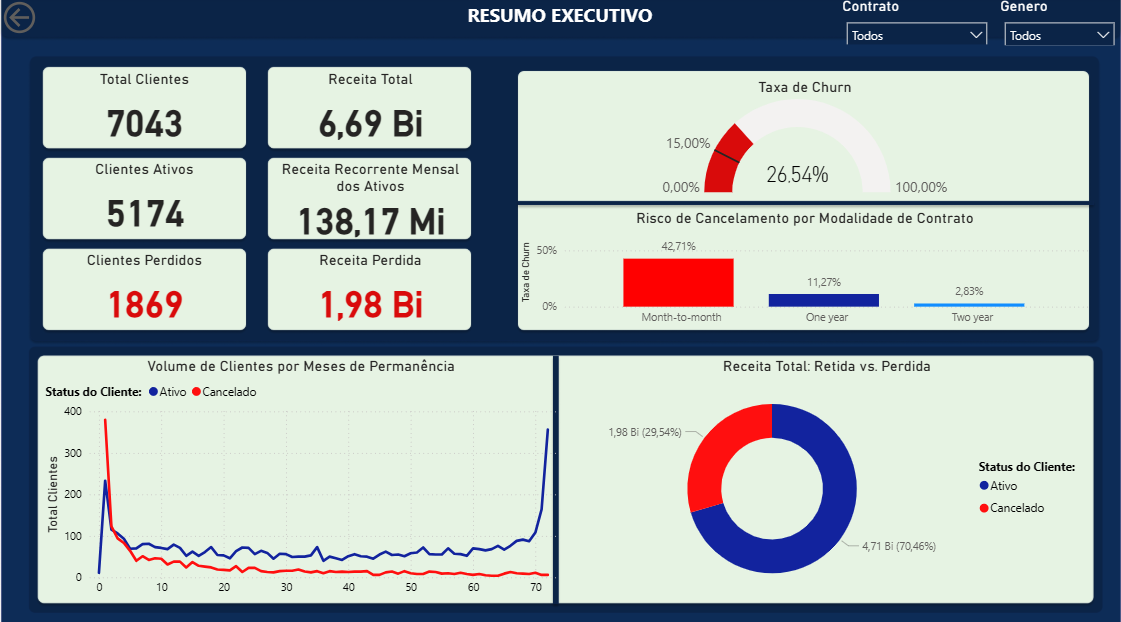

The dashboard page shown, as its layout file describes it:
{"tool":"powerbi","page":{"name":"Resumo Executivo","canvas":[1280,720],"ordinal":1},"visuals":[{"type":"card","title":"Total Clientes","fields":{"Values":["_Medidas.Total Clientes"]},"box":[47.8,83.2,235.8,93.4],"z":0},{"type":"card","title":"Clientes Ativos","fields":{"Values":["_Medidas.Clientes Ativos"]},"box":[47.8,185.7,235.8,93.4],"z":1000},{"type":"card","title":"Clientes Perdidos","fields":{"Values":["_Medidas.Clientes Perdidos"]},"box":[47.8,289.4,235.8,93.4],"z":2000},{"type":"card","title":"Receita Total","fields":{"Values":["_Medidas.Receita Total"]},"box":[305.3,83.2,235.8,93.4],"z":3000},{"type":"card","title":"Receita Recorrente Mensal dos Ativos","fields":{"Values":["_Medidas.MRR"]},"box":[305.3,185.7,235.8,93.4],"z":4000},{"type":"card","title":"Receita Perdida","fields":{"Values":["_Medidas.Receita Perdida"]},"box":[305.3,289.4,235.8,93.4],"z":5000},{"type":"gauge","fields":{"Y":["_Medidas.Taxa de Churn"]},"box":[590.1,92.3,656.2,140.1],"z":6000},{"type":"donutChart","title":"Receita Total: Retida vs. Perdida","fields":{"Y":["_Medidas.Receita Total"],"Category":["public tabela_fato_churn.Status do Cliente"]},"box":[640,410,606,281],"z":7000},{"type":"areaChart","title":"Volume de Clientes por Meses de Permanência","fields":{"Category":["public tabela_fato_churn.mesespermanencia"],"Y":["_Medidas.Total Clientes"],"Series":["public tabela_fato_churn.Status do Cliente"]},"box":[47.8,410.1,592.4,281.4],"z":8000},{"type":"textbox","box":[528.6,0,222.2,37.6],"z":9000},{"type":"columnChart","title":"Risco de Cancelamento por Modalidade de Contrato","fields":{"Category":["public tabela_dim_contrato.tipocontrato"],"Y":["_Medidas.Taxa de Churn"]},"box":[590.1,241.5,656.2,141.3],"z":10000},{"type":"slicer","title":"Genero","fields":{"Values":["public tabela_dim_cliente.genero"]},"box":[1135.8,0,144.7,54.7],"z":11000},{"type":"actionButton","box":[0,0,67.2,46.7],"z":12000},{"type":"slicer","title":"Contrato","fields":{"Values":["public tabela_dim_contrato.tipocontrato"]},"box":[955.8,0,180,53.5],"z":13000}]}

Visuals, with their boxes in screenshot pixels (x1, y1, x2, y2), scaled from the page's 1280x720 canvas onto the 1121x622 screenshot:
"Total Clientes" card: detection(42, 72, 248, 153)
"Clientes Ativos" card: detection(42, 160, 248, 241)
"Clientes Perdidos" card: detection(42, 250, 248, 331)
"Receita Total" card: detection(267, 72, 474, 153)
"Receita Recorrente Mensal dos Ativos" card: detection(267, 160, 474, 241)
"Receita Perdida" card: detection(267, 250, 474, 331)
gauge - _Medidas.Taxa de Churn: detection(517, 80, 1091, 201)
"Receita Total: Retida vs. Perdida" donutChart: detection(560, 354, 1091, 597)
"Volume de Clientes por Meses de Permanência" areaChart: detection(42, 354, 561, 597)
textbox: detection(463, 0, 658, 32)
"Risco de Cancelamento por Modalidade de Contrato" columnChart: detection(517, 209, 1091, 331)
"Genero" slicer: detection(995, 0, 1120, 47)
actionButton: detection(0, 0, 59, 40)
"Contrato" slicer: detection(837, 0, 995, 46)
